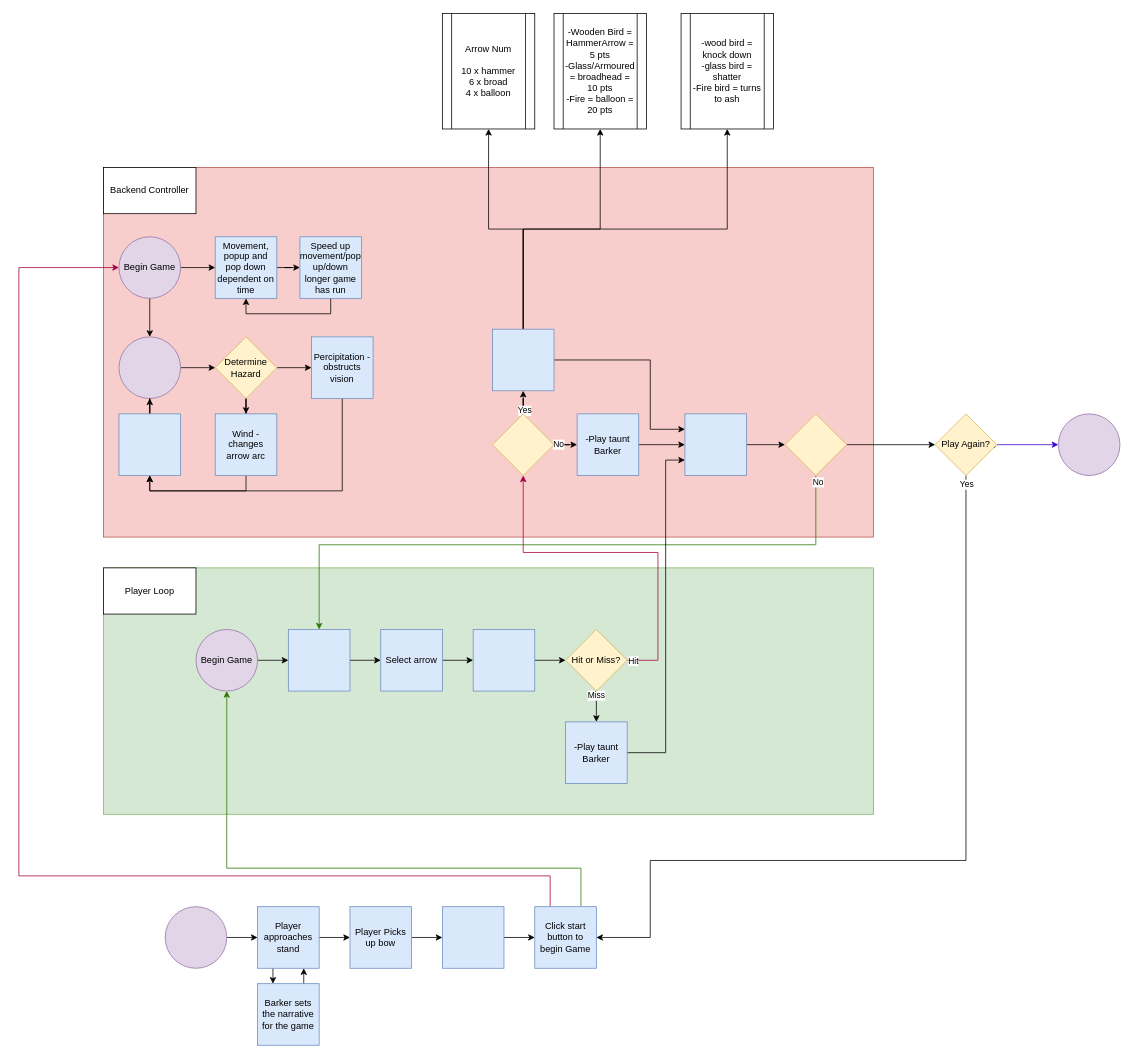
Image size: 1133x1059. Some labels were removed from this diagram. Here are the shapes that lost their labels. From the top down, the centre of each, then its label:
At (x=149, y=367): "Random chooses environment hazard".
At (x=523, y=359): "-Award points -Play Good Barker -knock bird down".
At (x=149, y=444): "Hazard runs for a small amount of time".
At (x=523, y=444): "Was it the correct arrow type?".
At (x=715, y=444): "Remove that arrow from ammo pool".
At (x=815, y=444): "Last Arrow?".
At (x=1089, y=444): "End".
At (x=319, y=660): "Assess Gallery State".
At (x=503, y=660): "Launch Arrow".
At (x=195, y=937): "Start".
At (x=473, y=937): "Start button becomes interactable".
